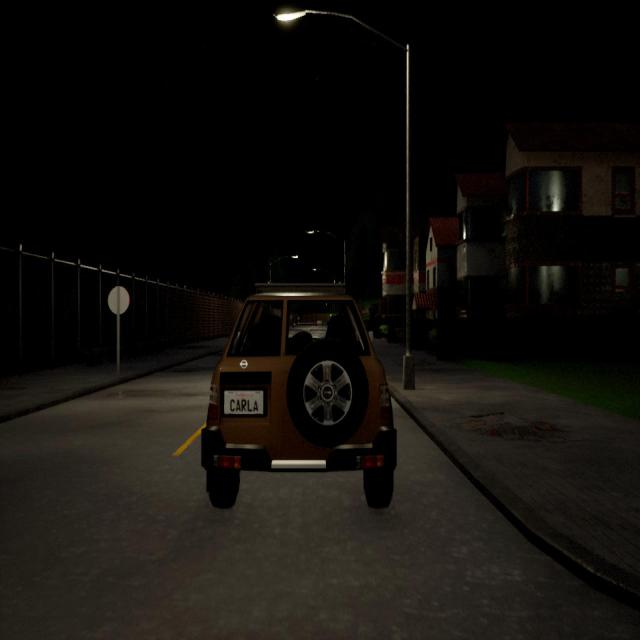Traffic_Signs: (107, 286, 129, 316)
Vehicle: (202, 283, 396, 507)
traffic_light: (330, 311, 332, 317)
